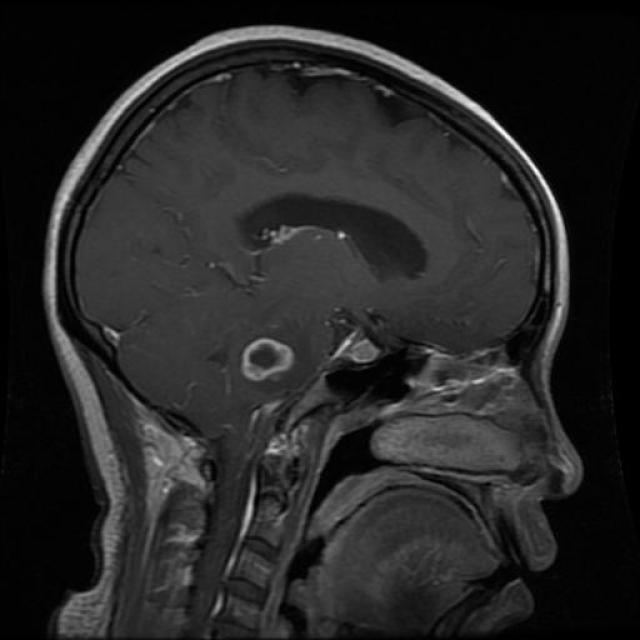glioma: (230, 192, 439, 292)
